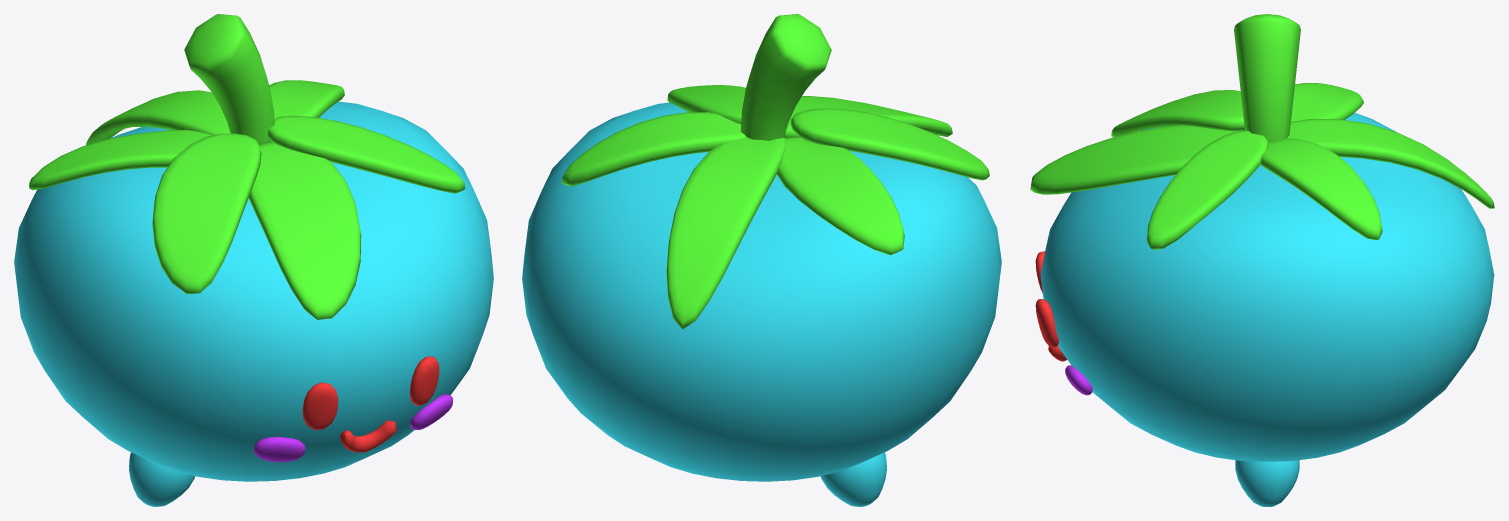
The model's file is SK_Tomato_01.fbx.
3 renders of one model, left to right at view 1: azimuth 30°, elevation 25°; view 2: azimuth 150°, elevation 25°; view 3: azimuth 270°, elevation 25°, orthographic. The views are drawn at different scales.
Visible parts, largest first — view 1: SK_Tomato_01; view 2: SK_Tomato_01; view 3: SK_Tomato_01.
Part boxes in pixels (x1,y1,x2,y2): SK_Tomato_01: (14, 14, 493, 506); SK_Tomato_01: (522, 14, 1001, 506); SK_Tomato_01: (1030, 14, 1494, 506).
Size of the model in its own units: 6.89 by 7.51 by 7.25.
